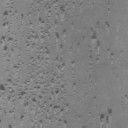oxide scale of temperature system: (26, 2, 68, 94), (0, 63, 44, 120), (1, 10, 13, 50), (99, 108, 112, 123), (90, 32, 100, 46), (105, 22, 110, 28), (76, 114, 83, 118), (54, 105, 60, 108)
